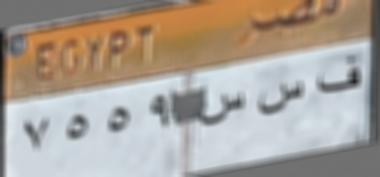5: (102, 102, 135, 142), (62, 109, 90, 148)
7: (16, 112, 55, 157)
9: (142, 88, 175, 138)
faa: (313, 54, 364, 98)
seen: (196, 84, 249, 131), (253, 76, 304, 120)
